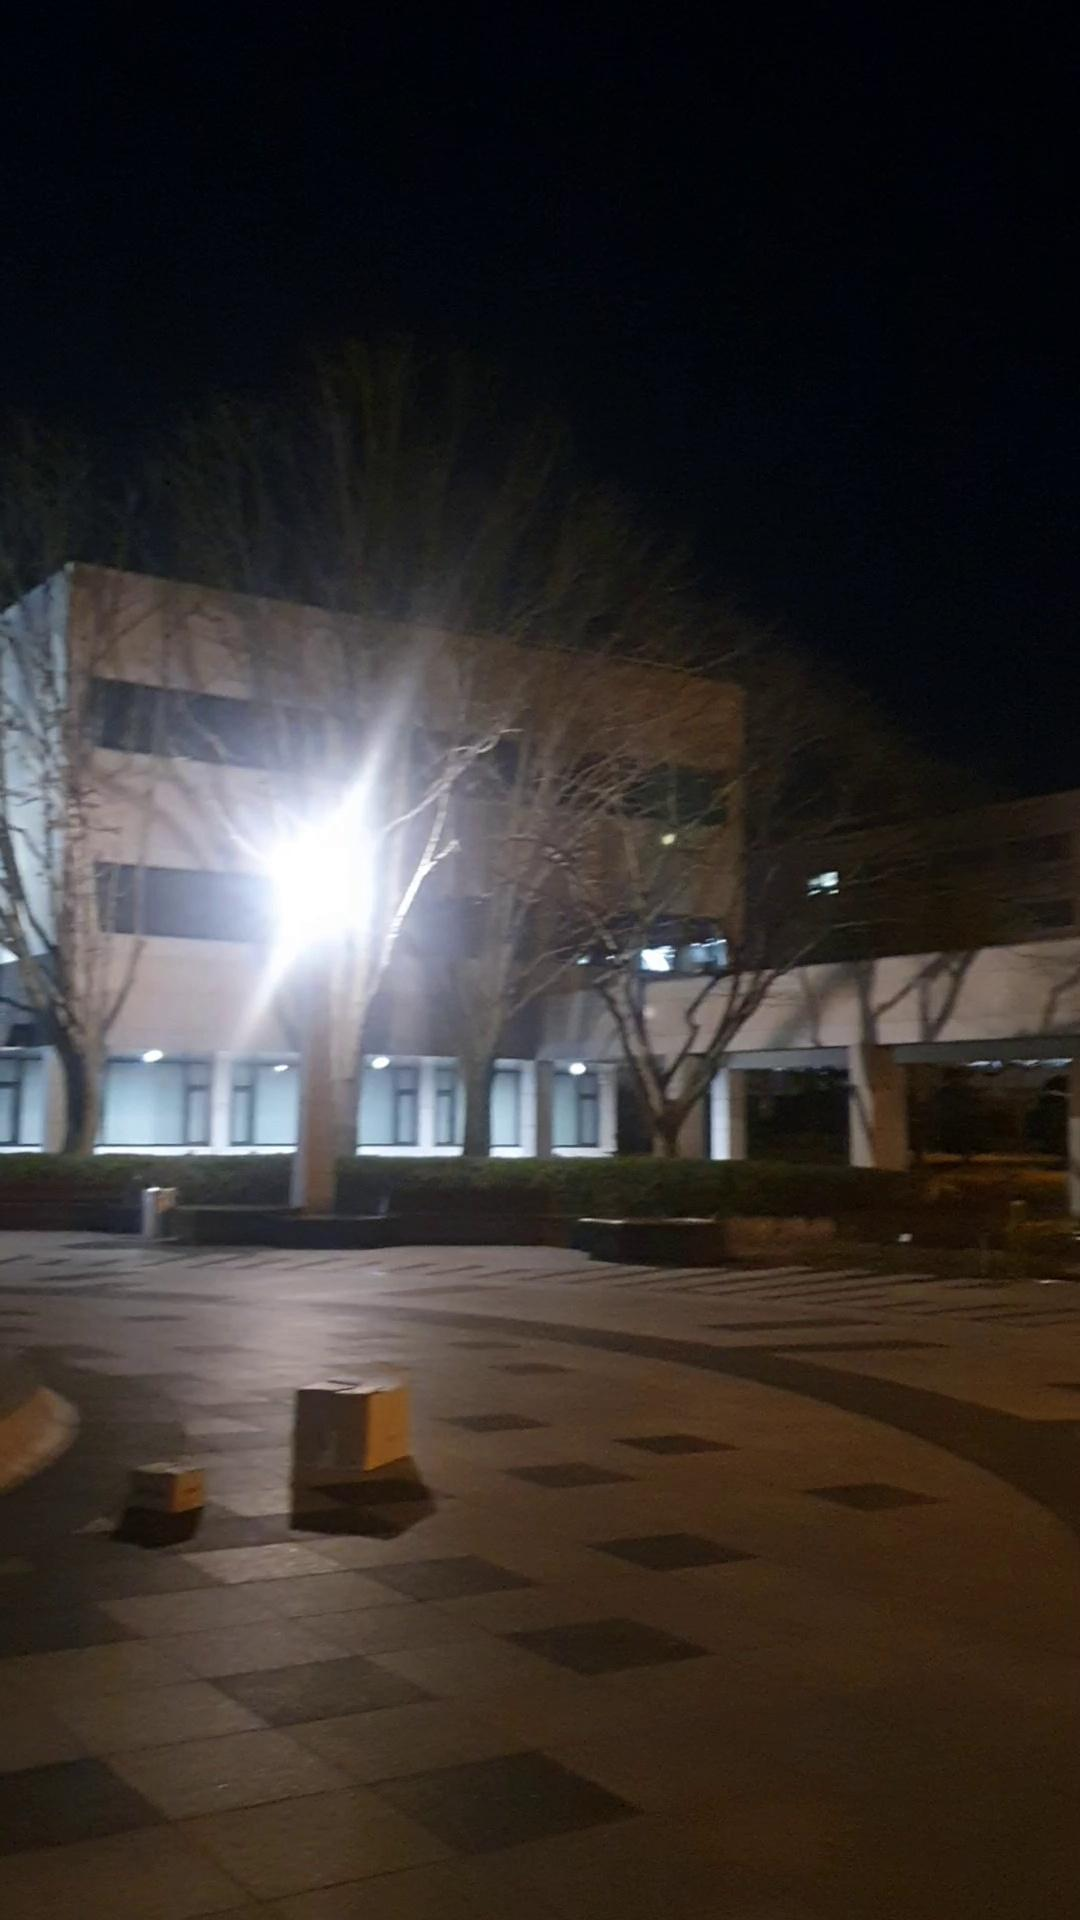Box: (281, 1379, 438, 1507), (128, 1443, 202, 1515)
